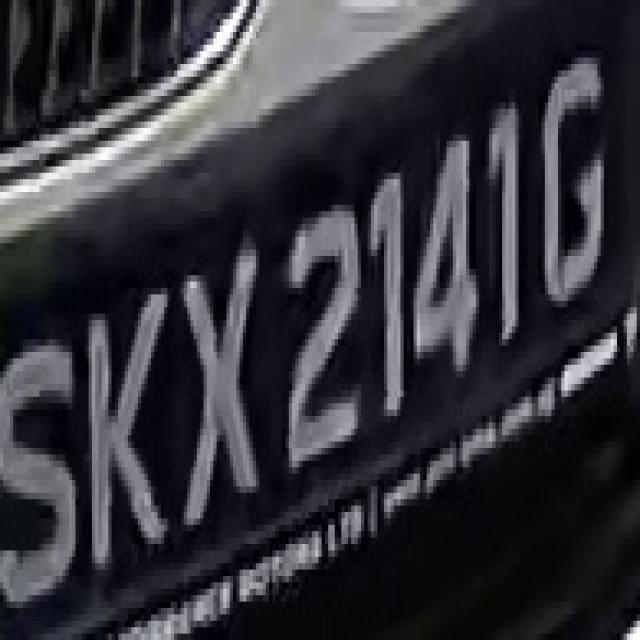1: (368, 160, 413, 448), (486, 83, 522, 371)
2: (279, 198, 371, 474)
4: (407, 122, 482, 410)
G: (535, 51, 614, 333)
K: (66, 288, 180, 589)
S: (3, 326, 82, 640)
X: (177, 250, 266, 531)
